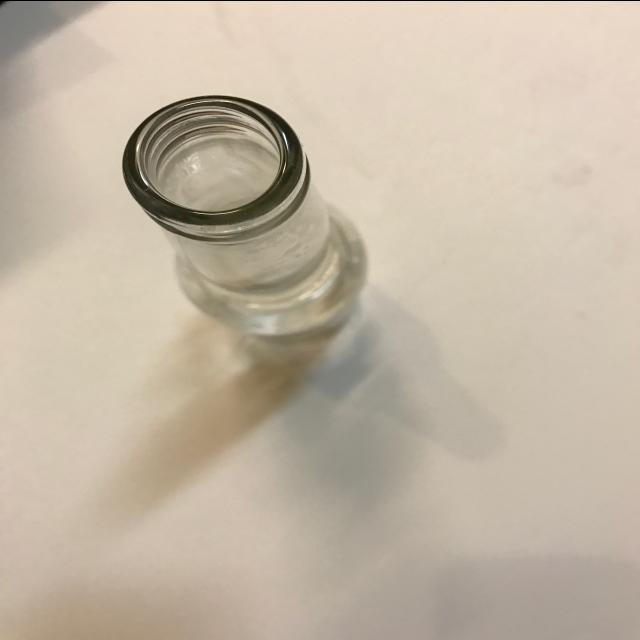glass: (120, 94, 364, 332)
